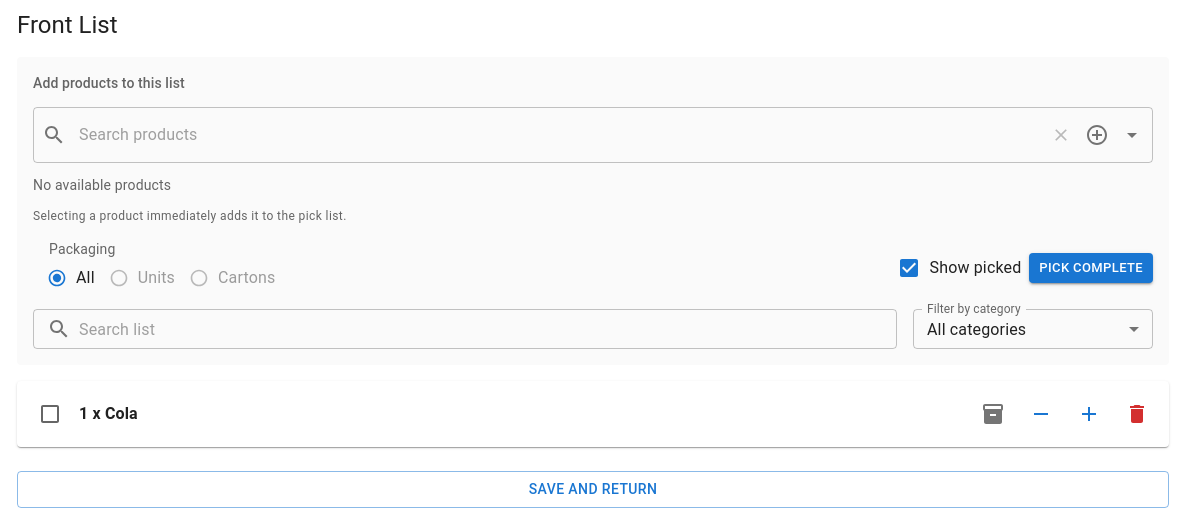
ActivePickListScreen extra branches › shows "No items match the filter" when visible items exist but none match search
The width and height of the screenshot is (1187, 525).
Type "nomatchtext" into the field with placeholder "Search list" at (488, 329), box [79,309,897,349]
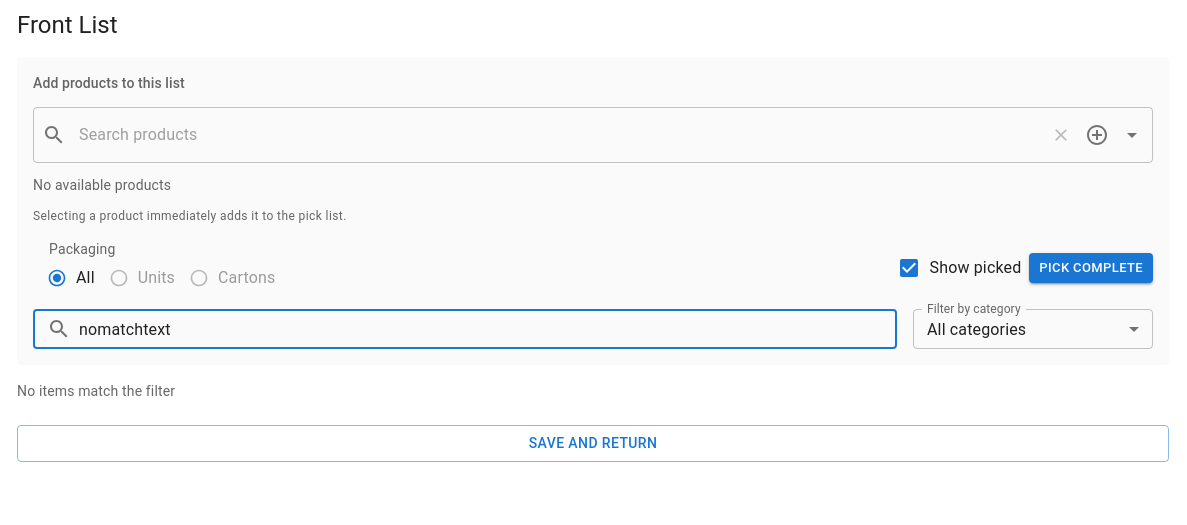
Expected: the text "No items match the filter" is shown, [17,383,175,399]
